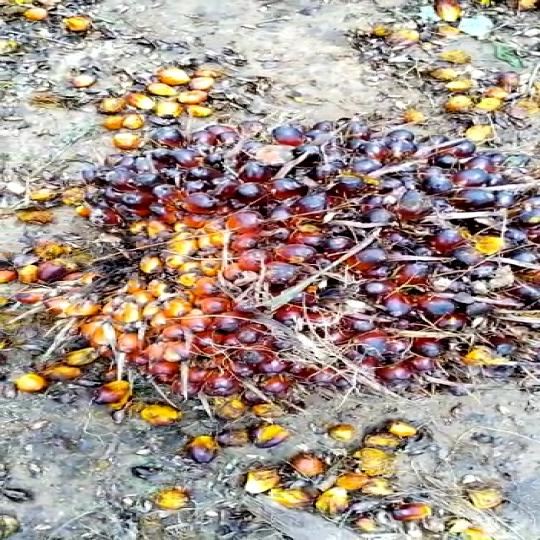kurang masak: (16, 110, 540, 465)
